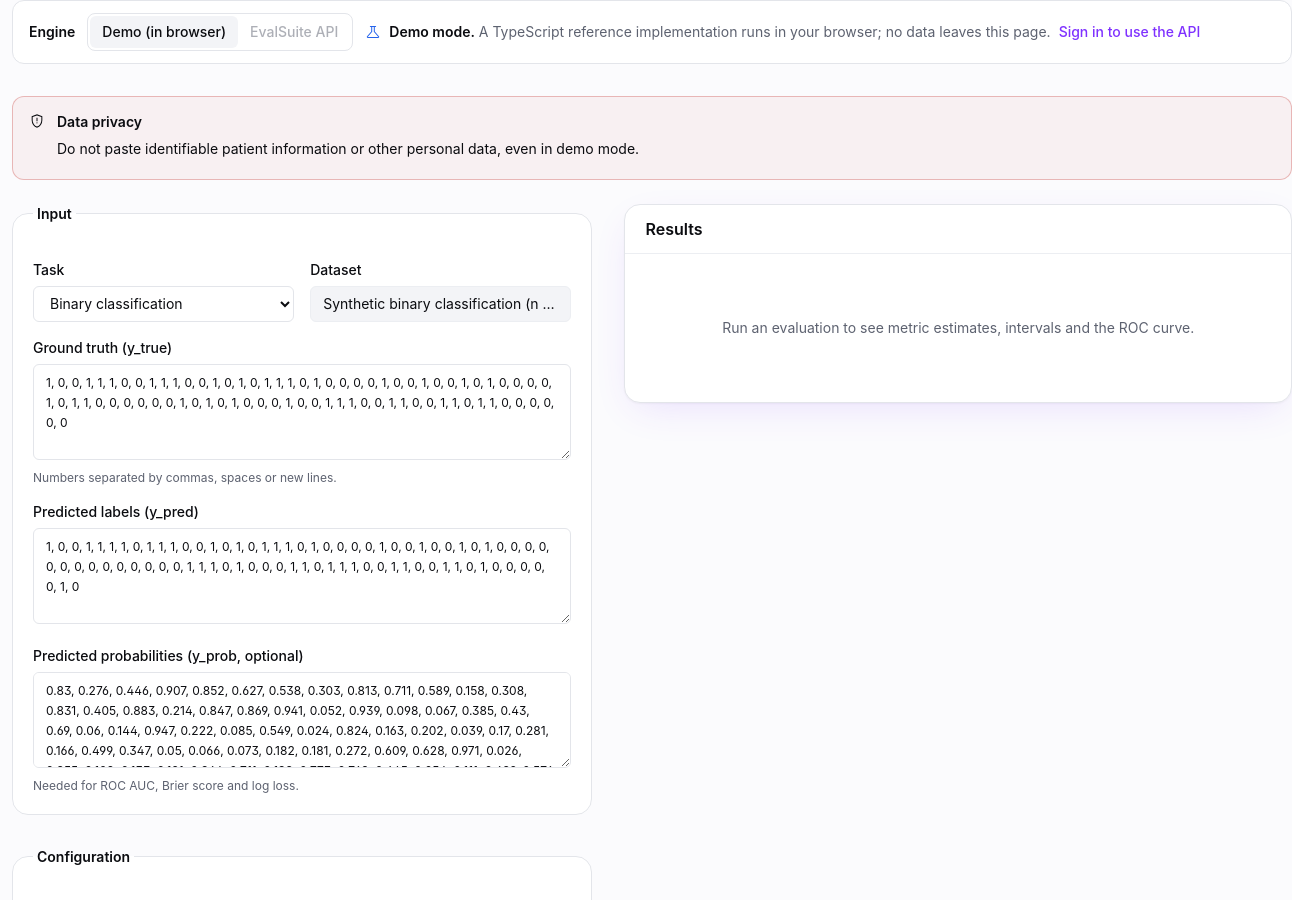
Test case: Playground › shows validation errors for invalid input
Replace the text in the text box labelled "Ground truth (y_true)" with "1, 0, maybe": (302, 412) x1=33 y1=364 x2=572 y2=460
(page scrolled)
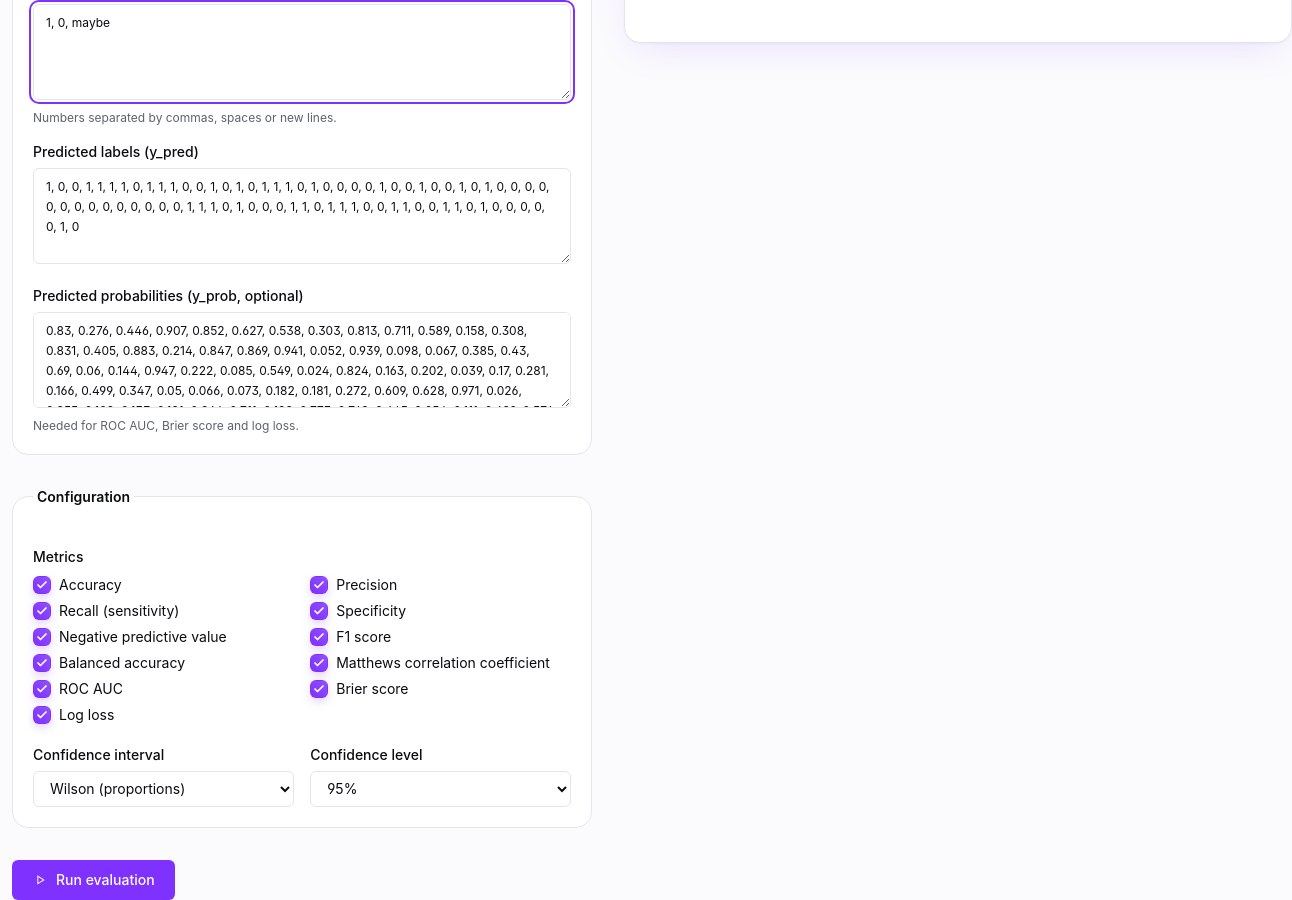
Click the button "Run evaluation": (93, 880) x1=12 y1=860 x2=175 y2=899
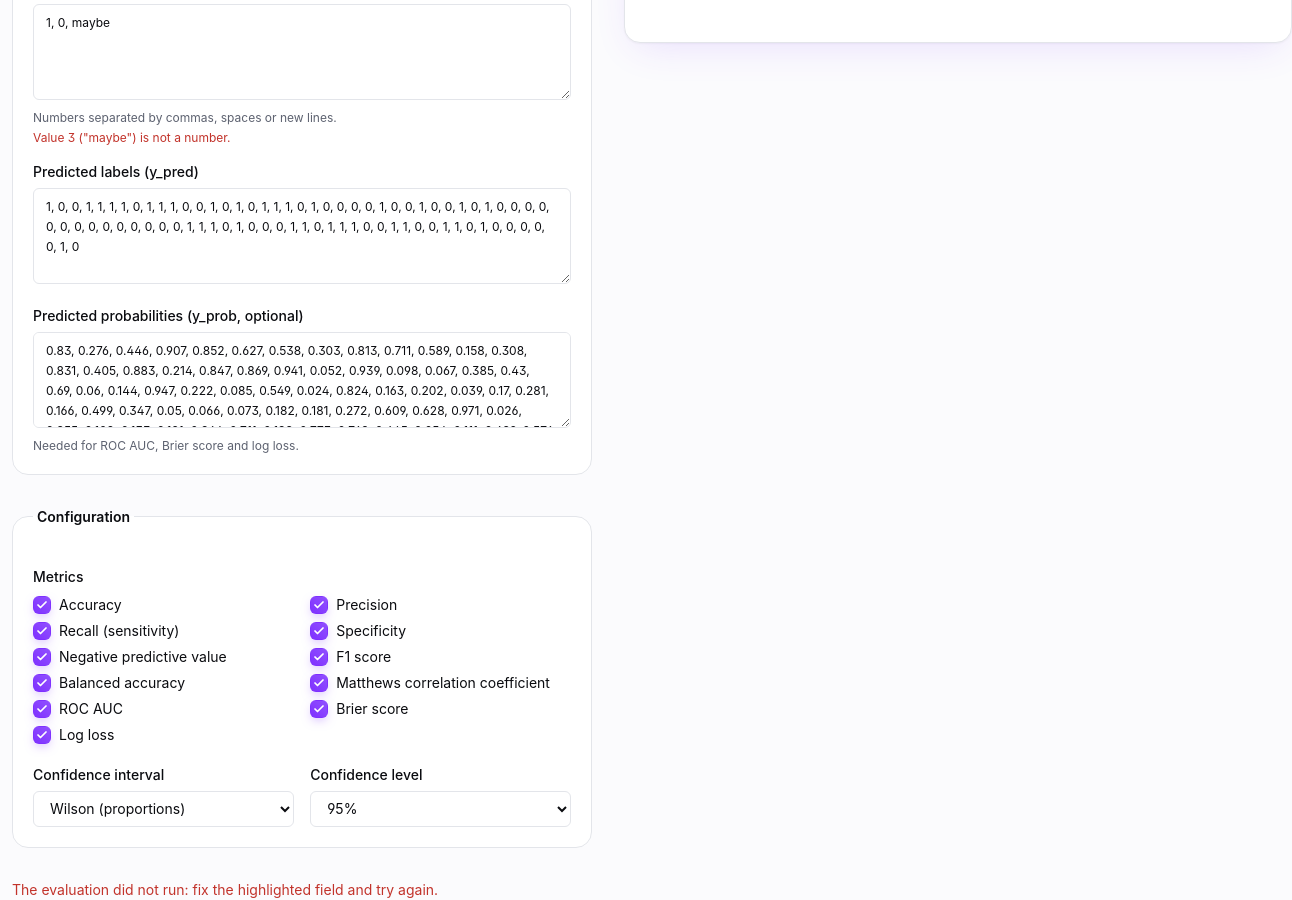
Expected: the text "Value 3 (\"maybe\") is not a number." is shown, x1=33 y1=130 x2=230 y2=144
